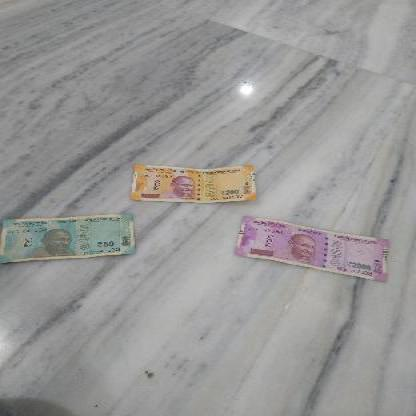New2000Front: (242, 217, 394, 282)
New200Front: (136, 166, 257, 201)
New50Front: (0, 216, 138, 257)
